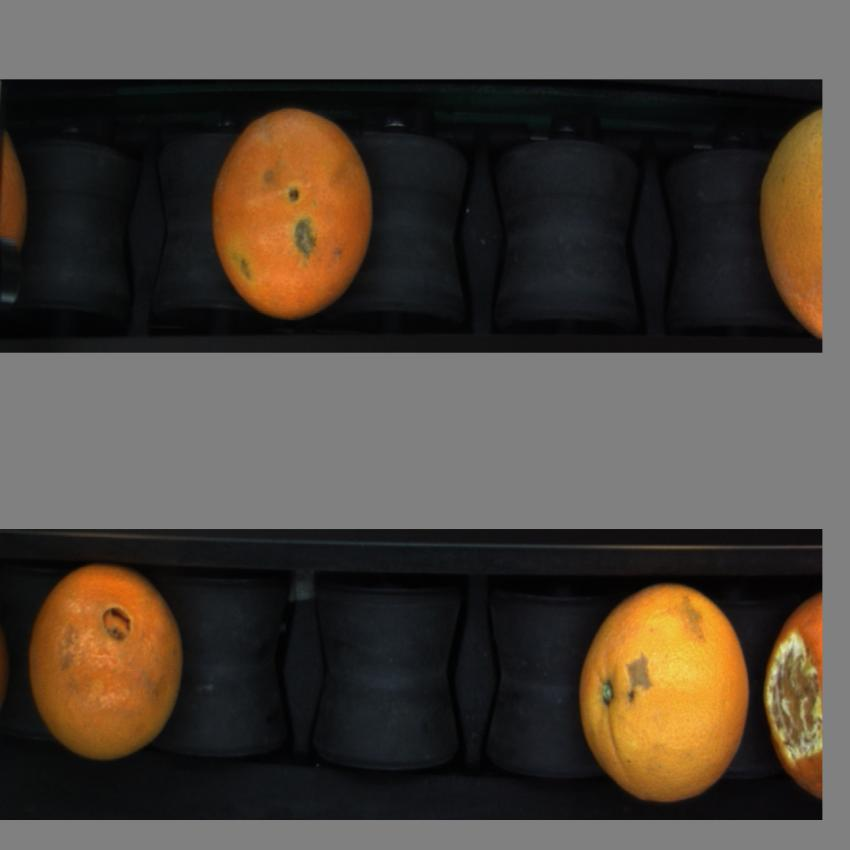Buen estado: (207, 103, 391, 325), (576, 586, 755, 811), (26, 557, 196, 763), (756, 101, 826, 344)
Mal estado: (765, 595, 821, 806)
